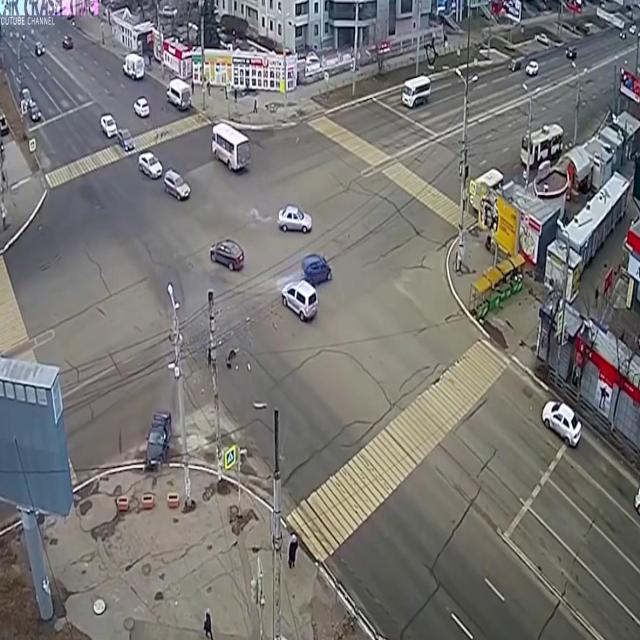accident: (279, 243, 337, 339), (139, 386, 175, 498)
non_accident: (99, 109, 136, 158)
